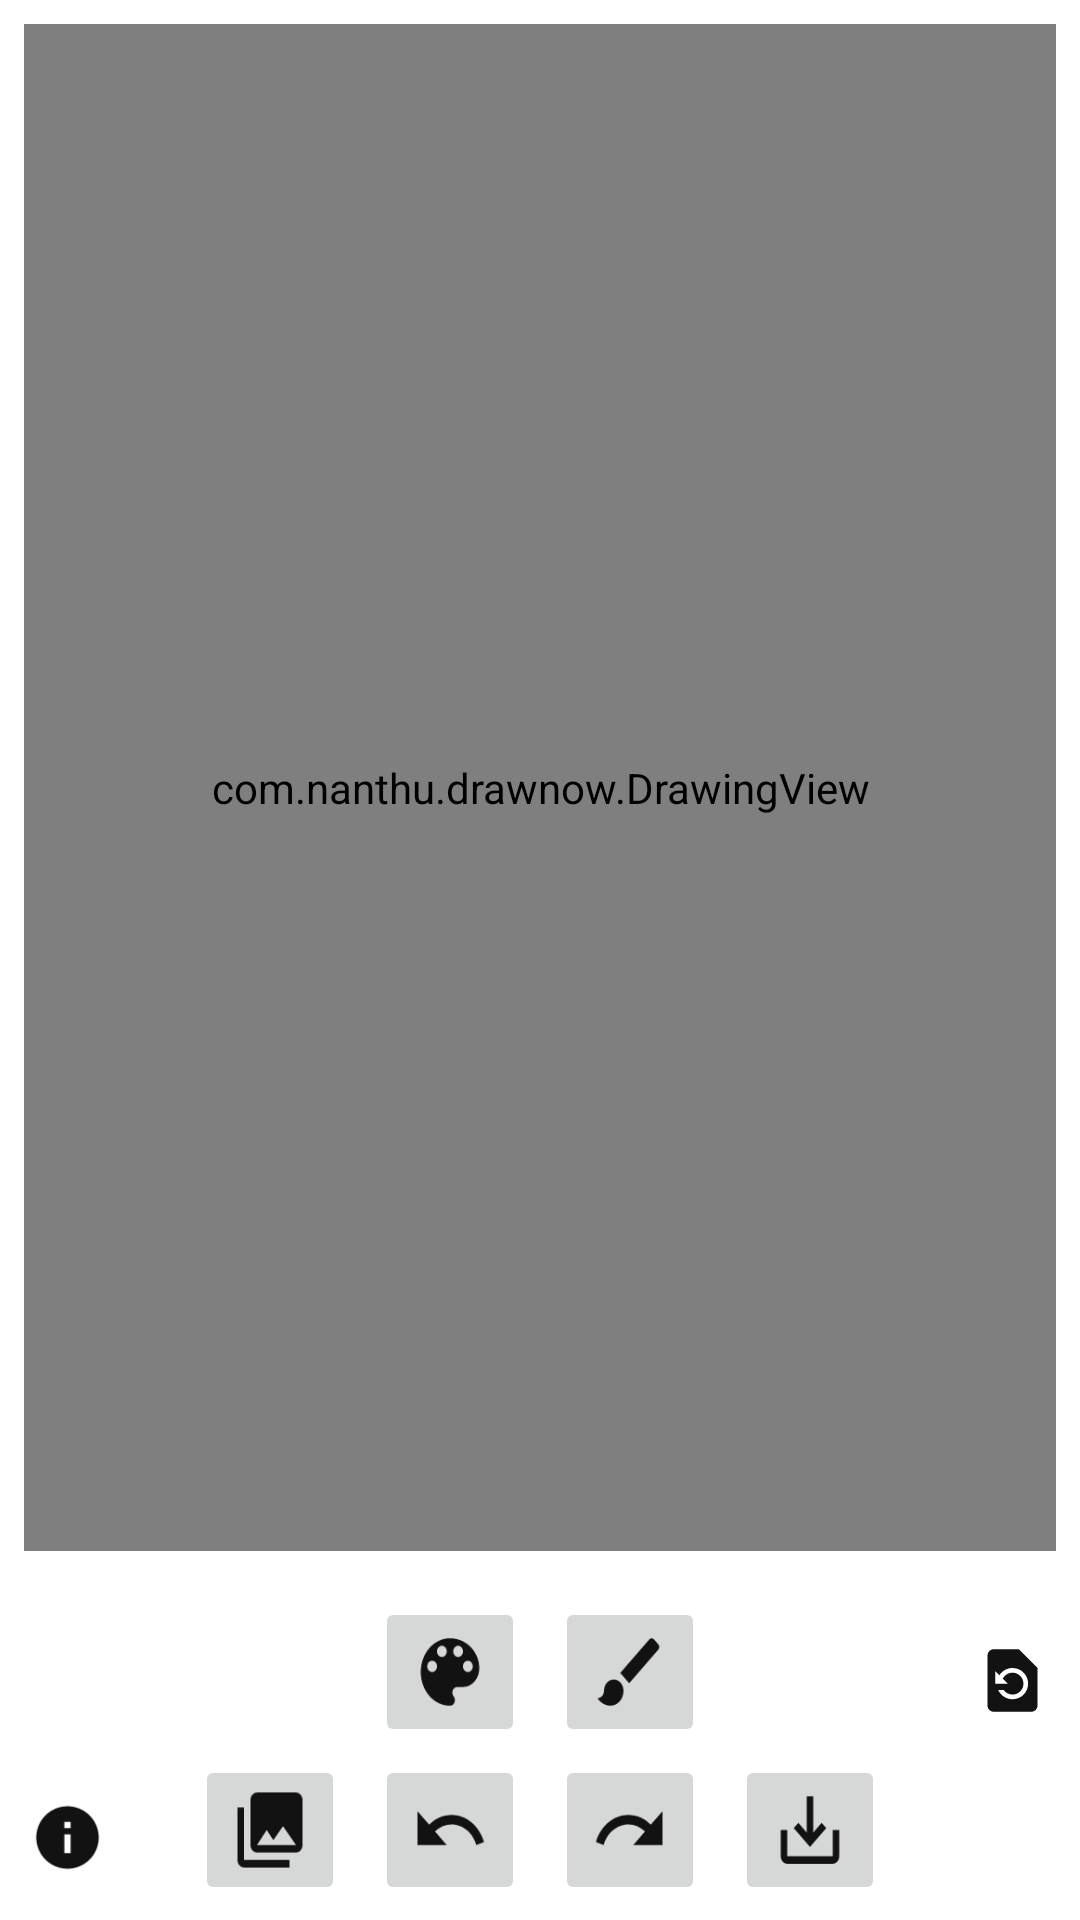

Icon click points for this 1080×1920 phone screenshot, format [x,y]:
brush: [630,1672]
collections: [270,1830]
info: [67,1837]
redo: [630,1830]
restore page: [1012,1680]
save: [810,1830]
undo: [450,1830]
